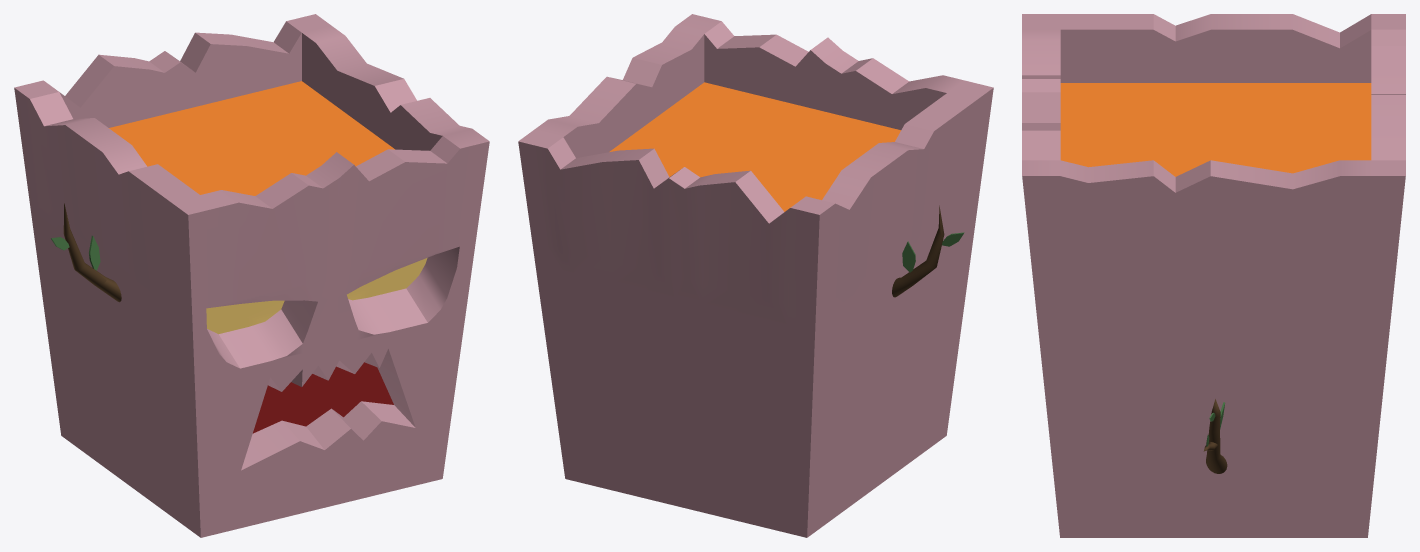
Rendered from Log.fbx.
3 views of the same model, side by side, from view 1: azimuth 30°, elevation 25°; view 2: azimuth 150°, elevation 25°; view 3: azimuth 270°, elevation 25° (orthographic). The views are drawn at different scales.
Visible parts, largest first — view 1: Log; view 2: Log; view 3: Log.
Boxes of the visible parts, x1,y1,x2,y2 form: Log: (14, 14, 489, 537); Log: (518, 14, 993, 537); Log: (1022, 14, 1405, 537).
Bounding box in the file's own units: 4.62 × 4.04 × 3.59.
